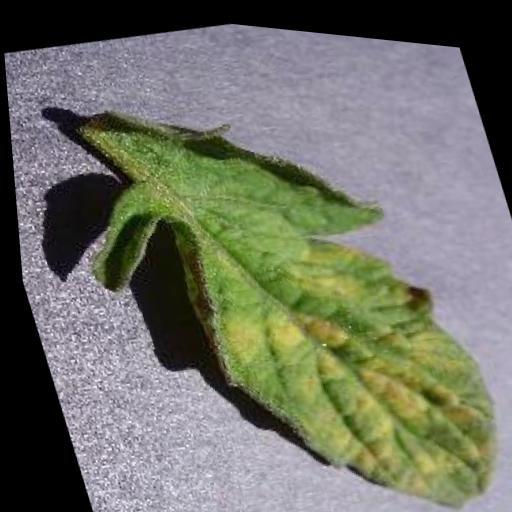Leaf Mold: (35, 36, 512, 512)
